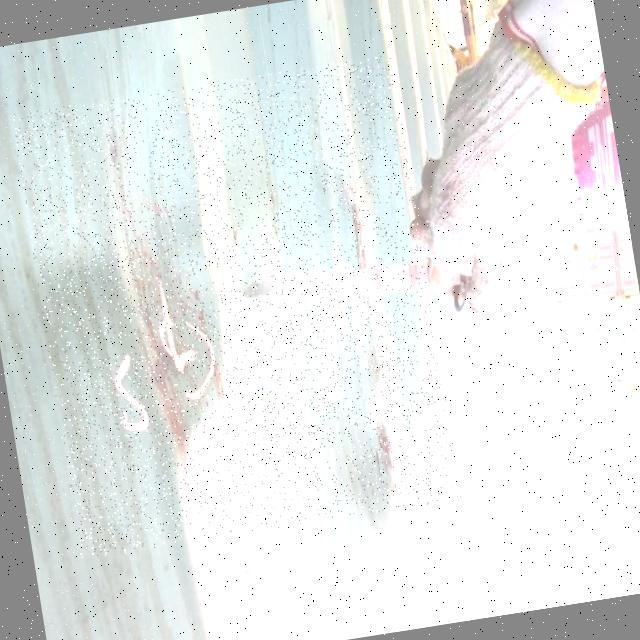Dent: (11, 55, 462, 560)
